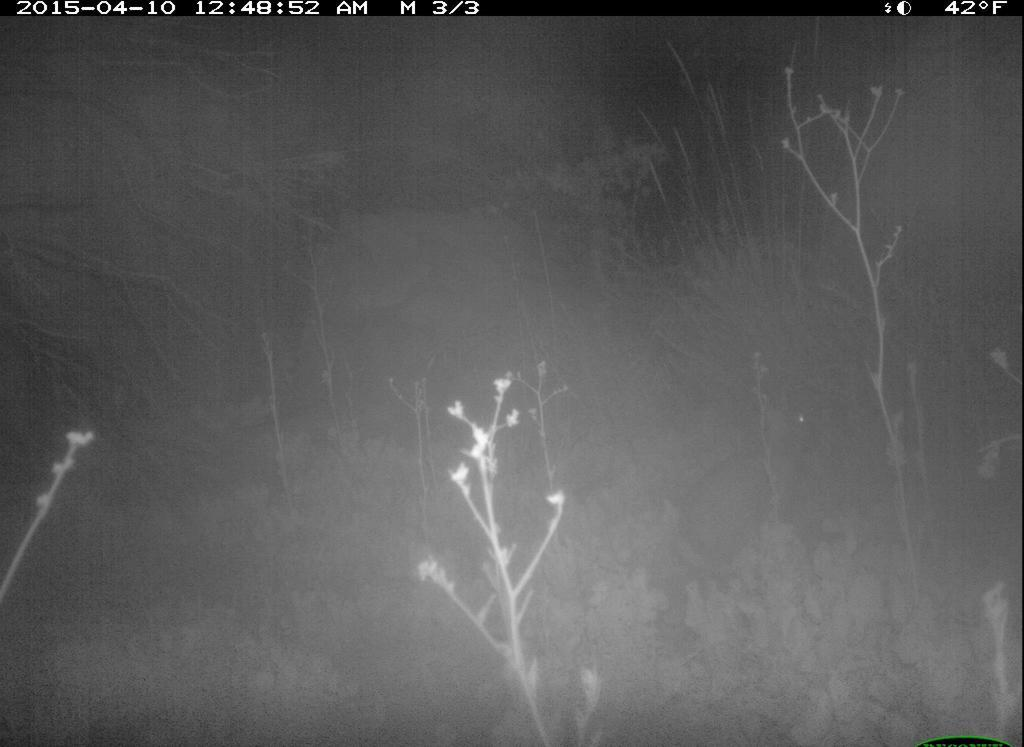rabbit: (669, 361, 828, 584)
